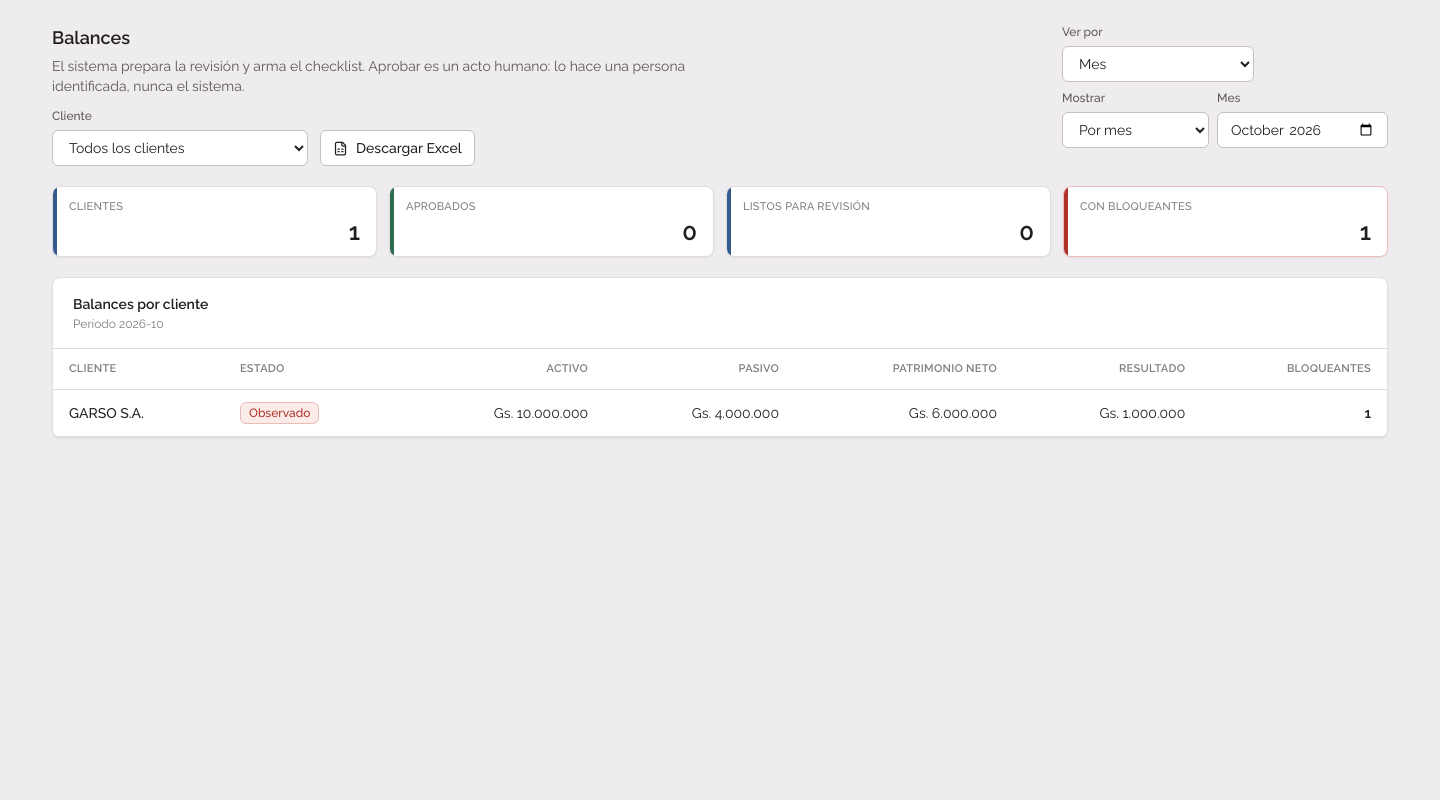
pantalla de balances › el botón de aprobar queda deshabilitado si hay bloqueantes, aunque el rol pueda aprobar
Click the cell "GARSO S.A.". click: (138, 412)
box: [53,389,224,436]
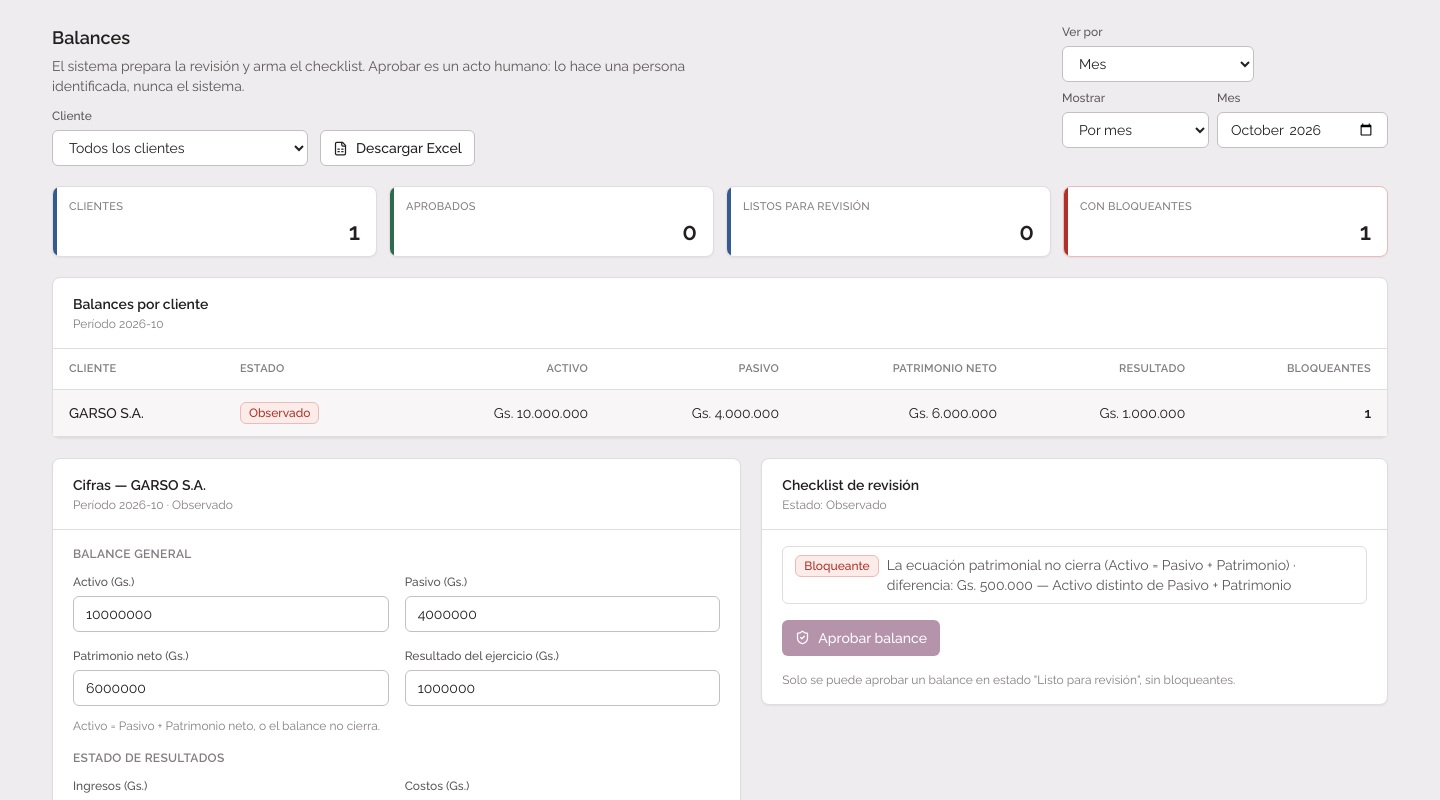
Expected: the button "Aprobar balance" is disabled, [782,620,940,656]
Expected: the text "Bloqueante" is shown, [795,554,879,576]
Expected: the text "diferencia: Gs. 500.000" is shown, [887,556,1296,592]
